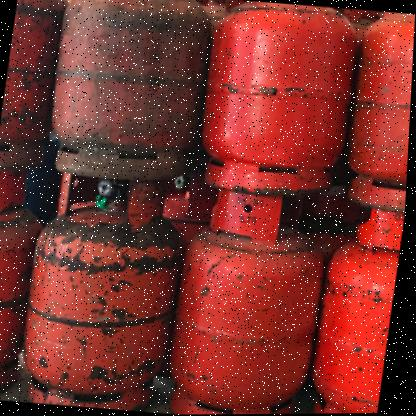gas-tank: (8, 167, 203, 414), (30, 0, 242, 203), (166, 180, 347, 414), (176, 0, 372, 216), (301, 199, 407, 413), (333, 10, 415, 215), (0, 0, 86, 182), (0, 170, 60, 403)
